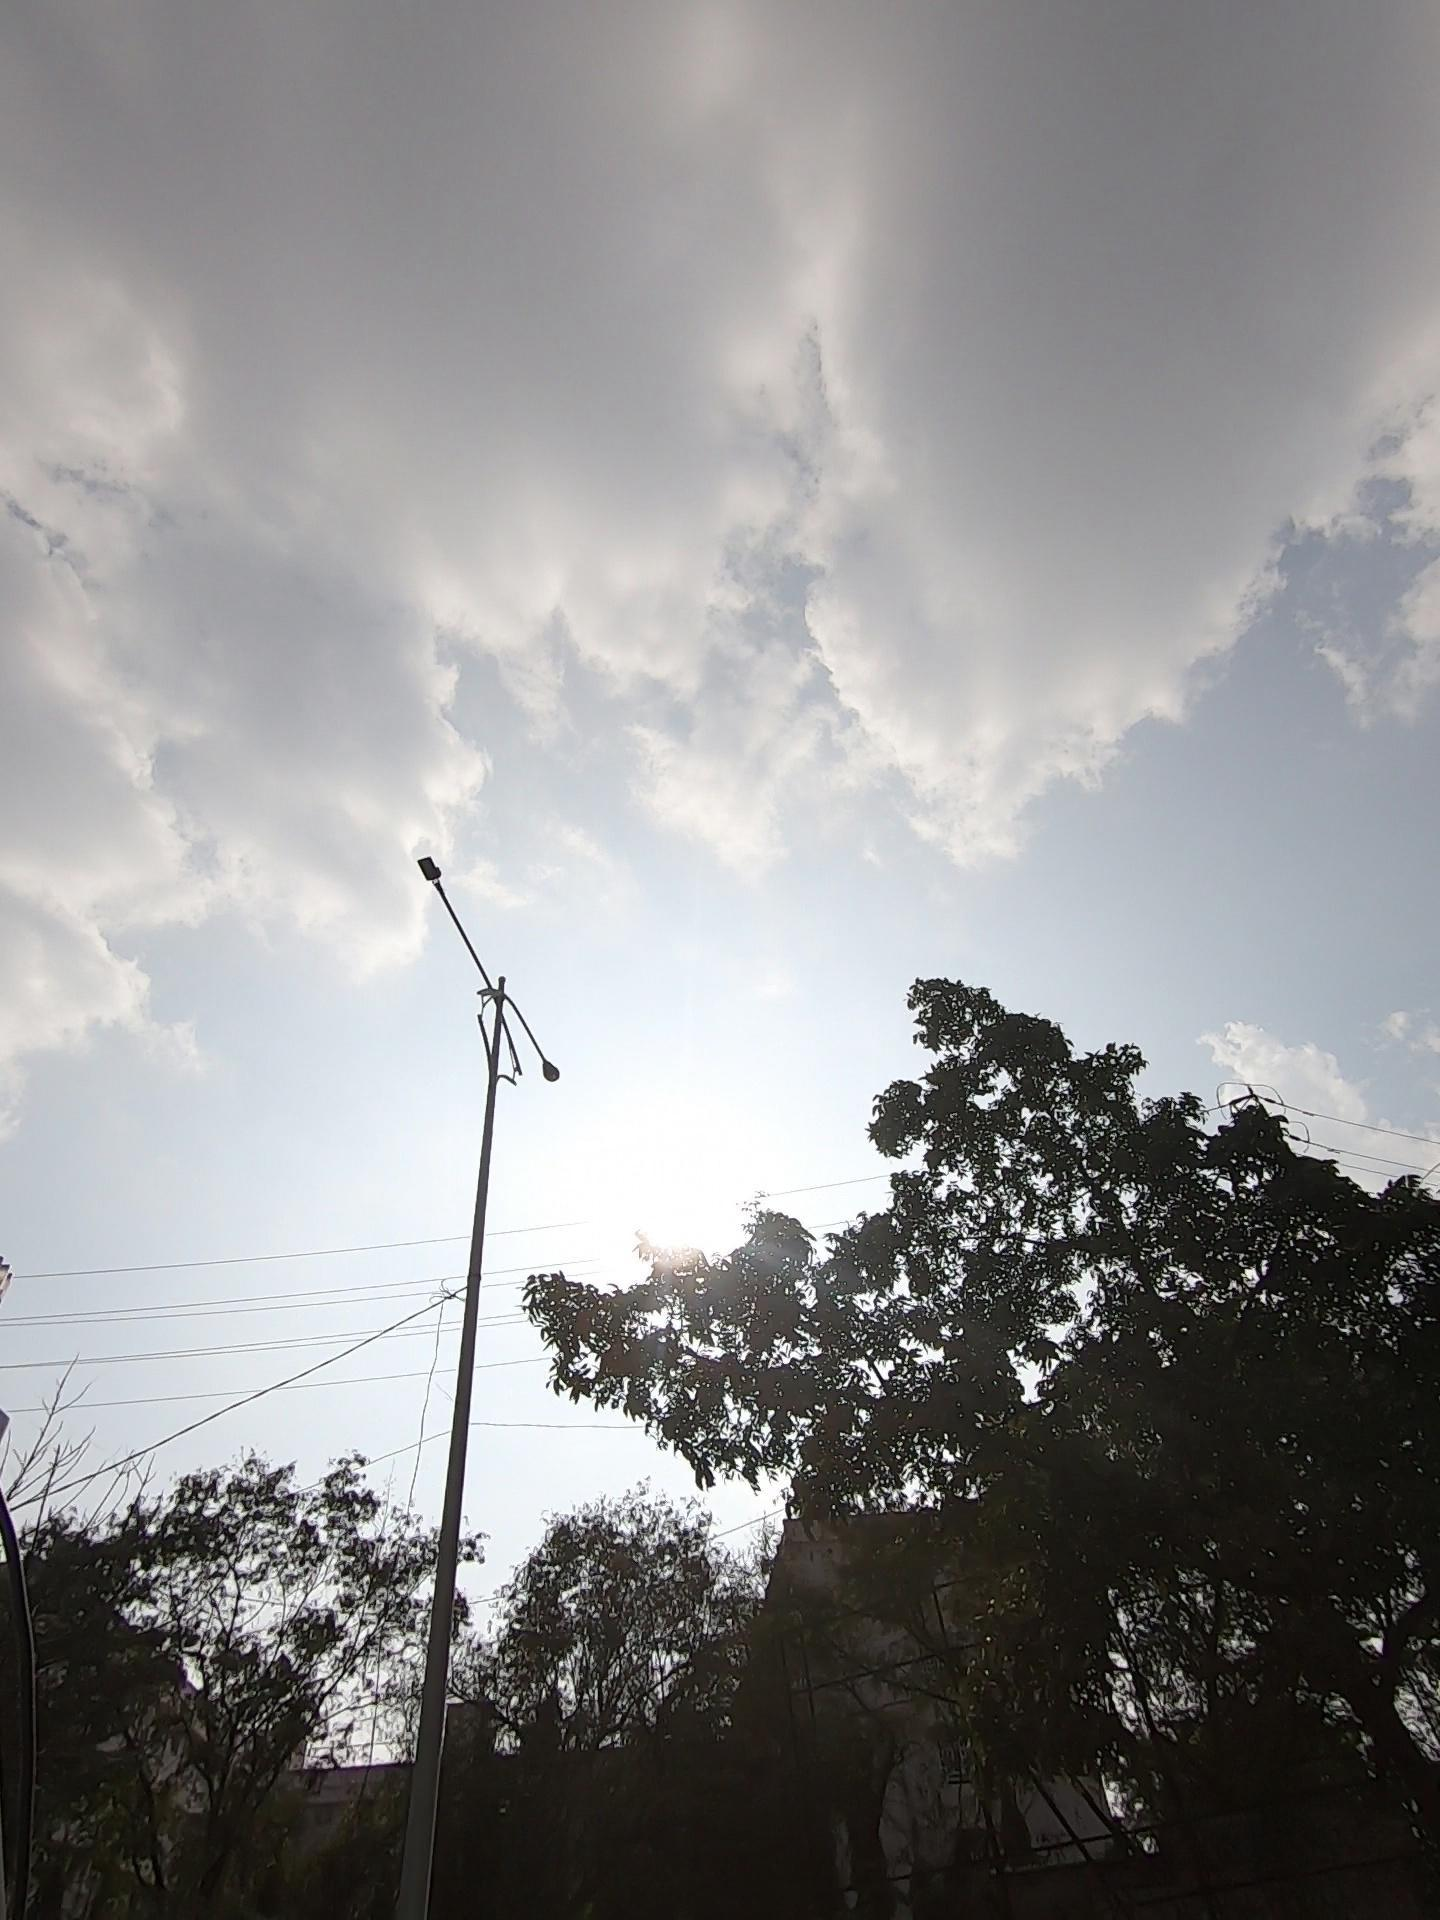off: (325, 771, 616, 1252)
